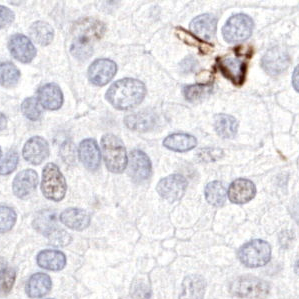Lymphocyte: (211, 49, 258, 88)
